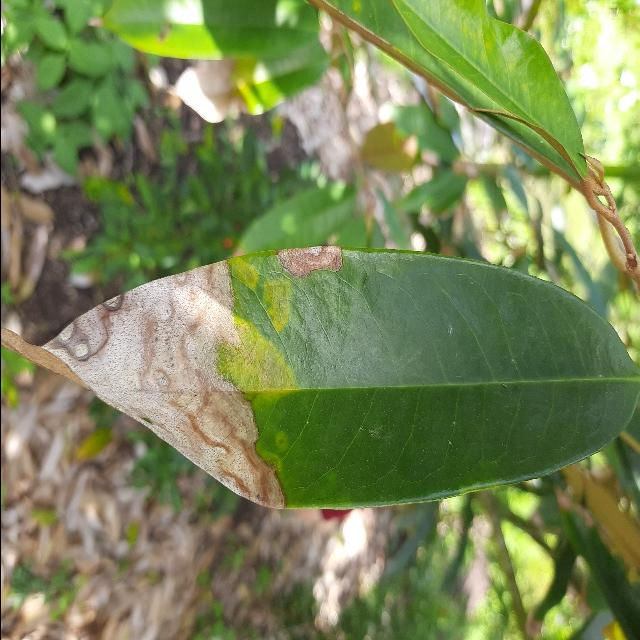Leaf Blight: (0, 238, 640, 517)
